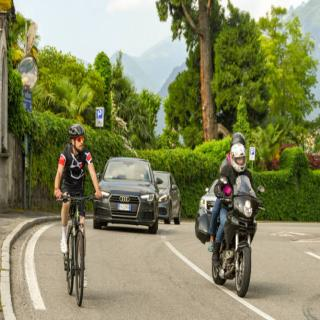Normal_vehicle: (97, 155, 157, 230), (148, 166, 184, 233)
